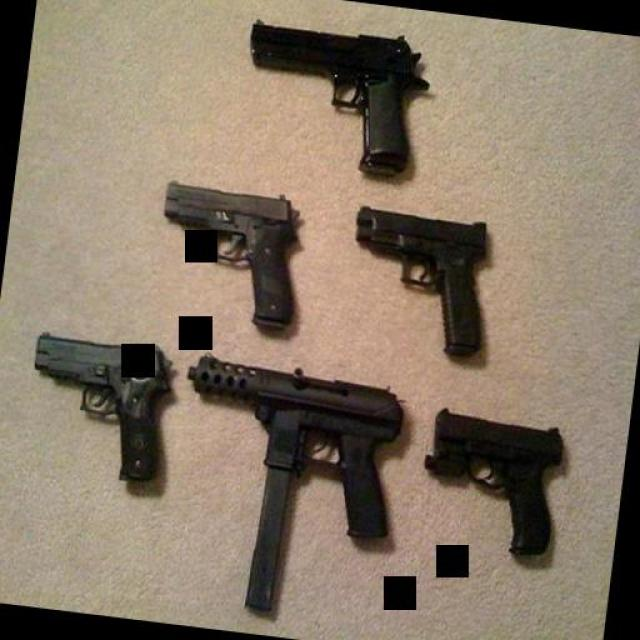gun: (234, 14, 436, 176), (338, 202, 500, 356), (415, 400, 569, 562), (150, 175, 308, 329), (20, 328, 176, 482)
